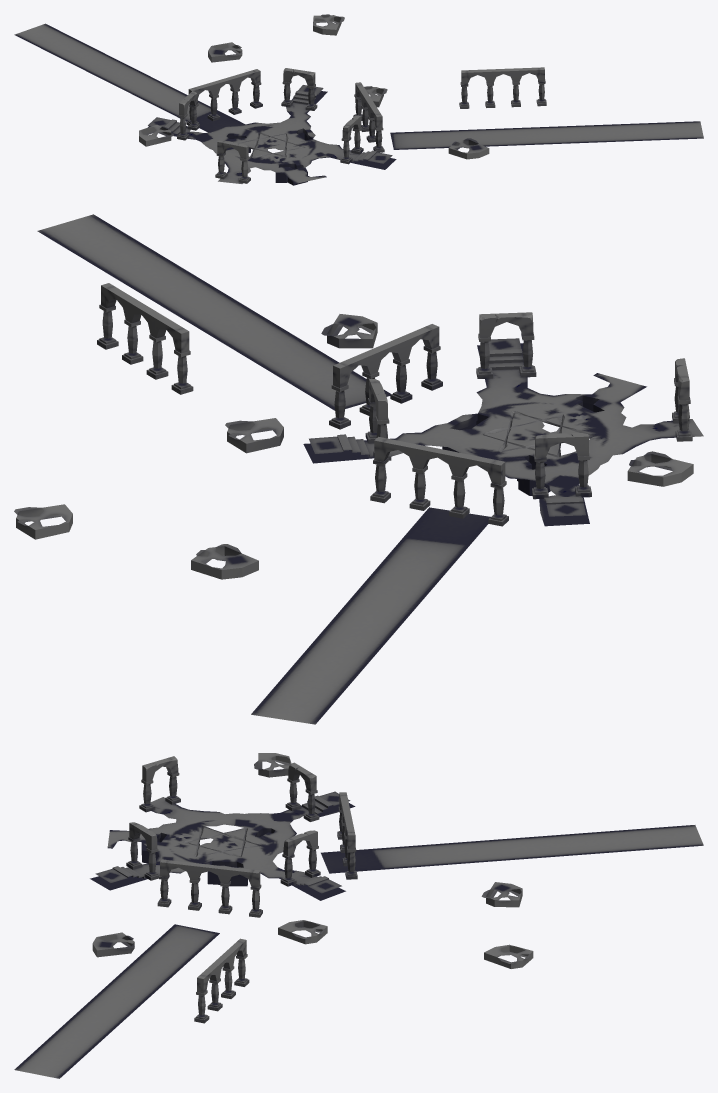
The model's file is Ground_02.FBX.
3 renders of one model, top to bottom at view 1: azimuth 30°, elevation 25°; view 2: azimuth 150°, elevation 25°; view 3: azimuth 270°, elevation 25°, orthographic. The views are drawn at different scales.
Visible parts, largest first — view 1: Ground_02; view 2: Ground_02; view 3: Ground_02.
Boxes of the visible parts, x1,y1,x2,y2 form: Ground_02: (14, 14, 703, 185); Ground_02: (14, 214, 703, 724); Ground_02: (14, 753, 703, 1078).
Bounding box in the file's own units: 61.39 × 6.51 × 63.48.
